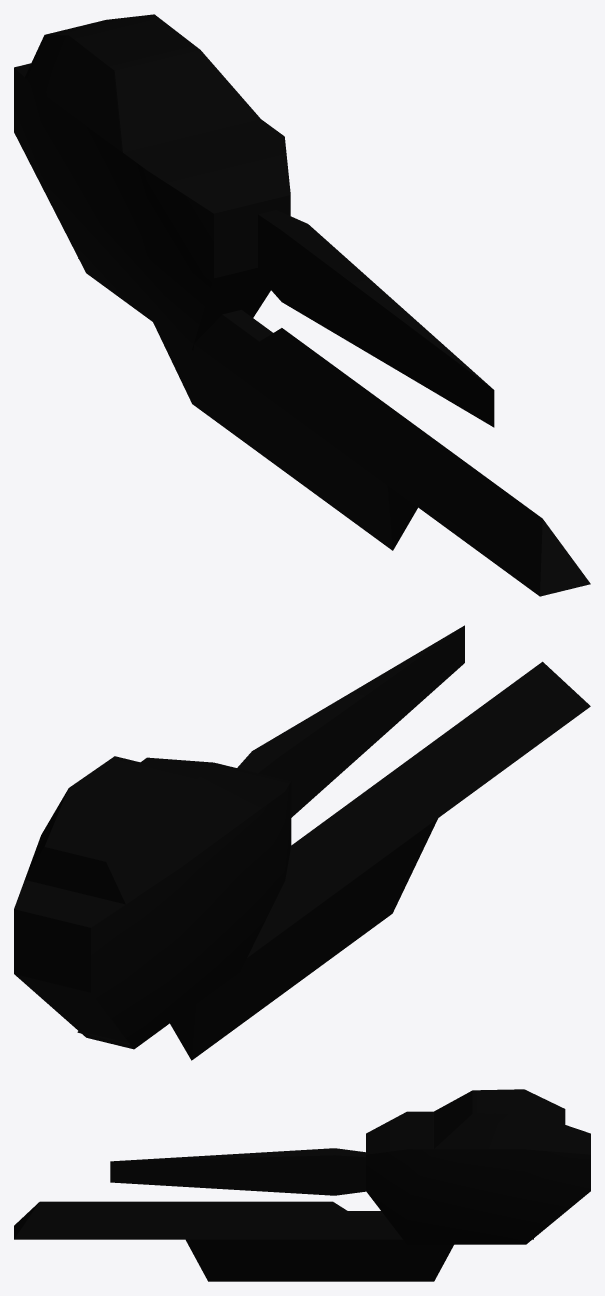
Rendered from sensor_s_02.glb.
The picture shows the model from 3 angles, top to bottom: view 1: azimuth 30°, elevation 25°; view 2: azimuth 150°, elevation 25°; view 3: azimuth 270°, elevation 25°; orthographic projection. The views are drawn at different scales.
Visible parts, largest first — view 1: sensor_s_02_LOD0; view 2: sensor_s_02_LOD0; view 3: sensor_s_02_LOD0.
Part boxes in pixels (left/top/right/bottom): sensor_s_02_LOD0: left=14, top=14, right=590, bottom=596; sensor_s_02_LOD0: left=14, top=625, right=590, bottom=1060; sensor_s_02_LOD0: left=14, top=1089, right=590, bottom=1281.
Bounding box in the file's own units: 0.2524 × 0.5603 × 1.62.
Materials: 1 (1 with a texture image).
